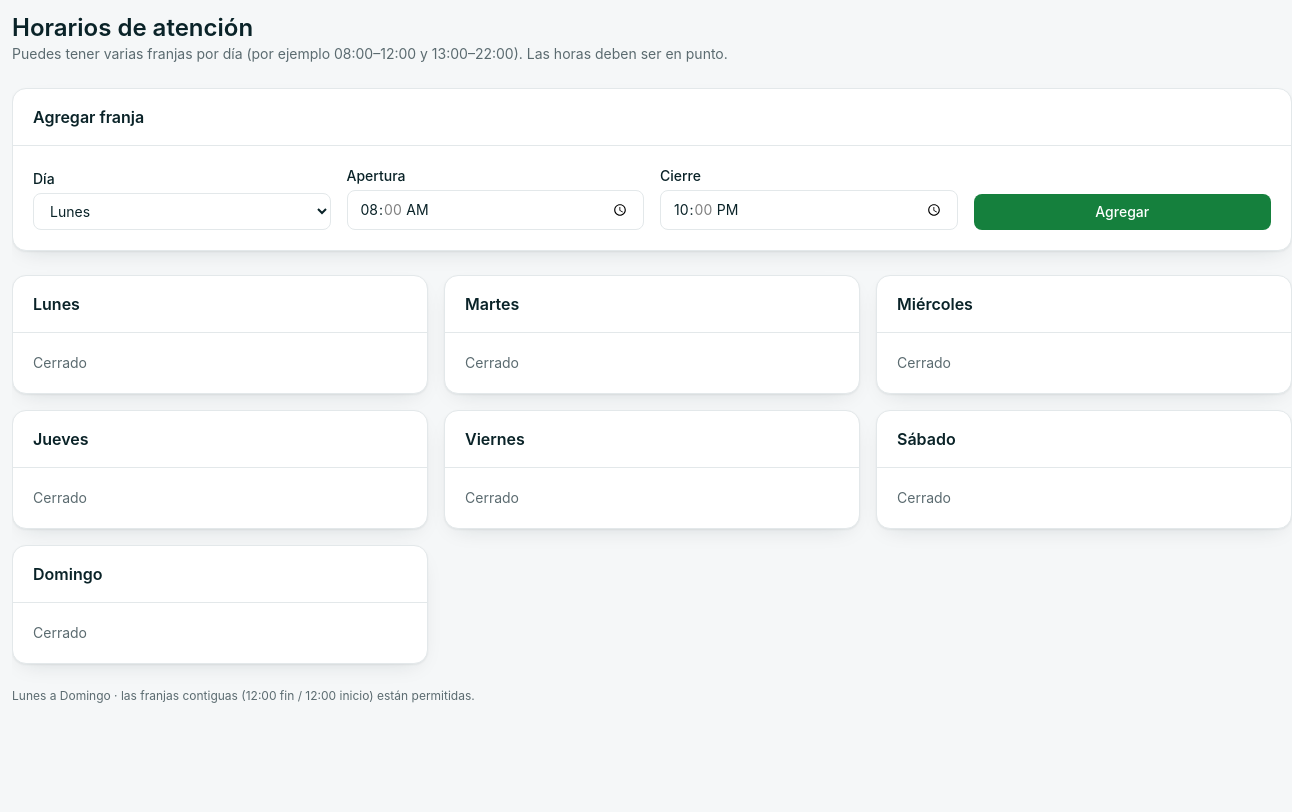
Test: HorariosPage › muestra el 409 horario_solapado al crear
Click the button "Agregar" at (1122, 212), box 974,194 -> 1271,230
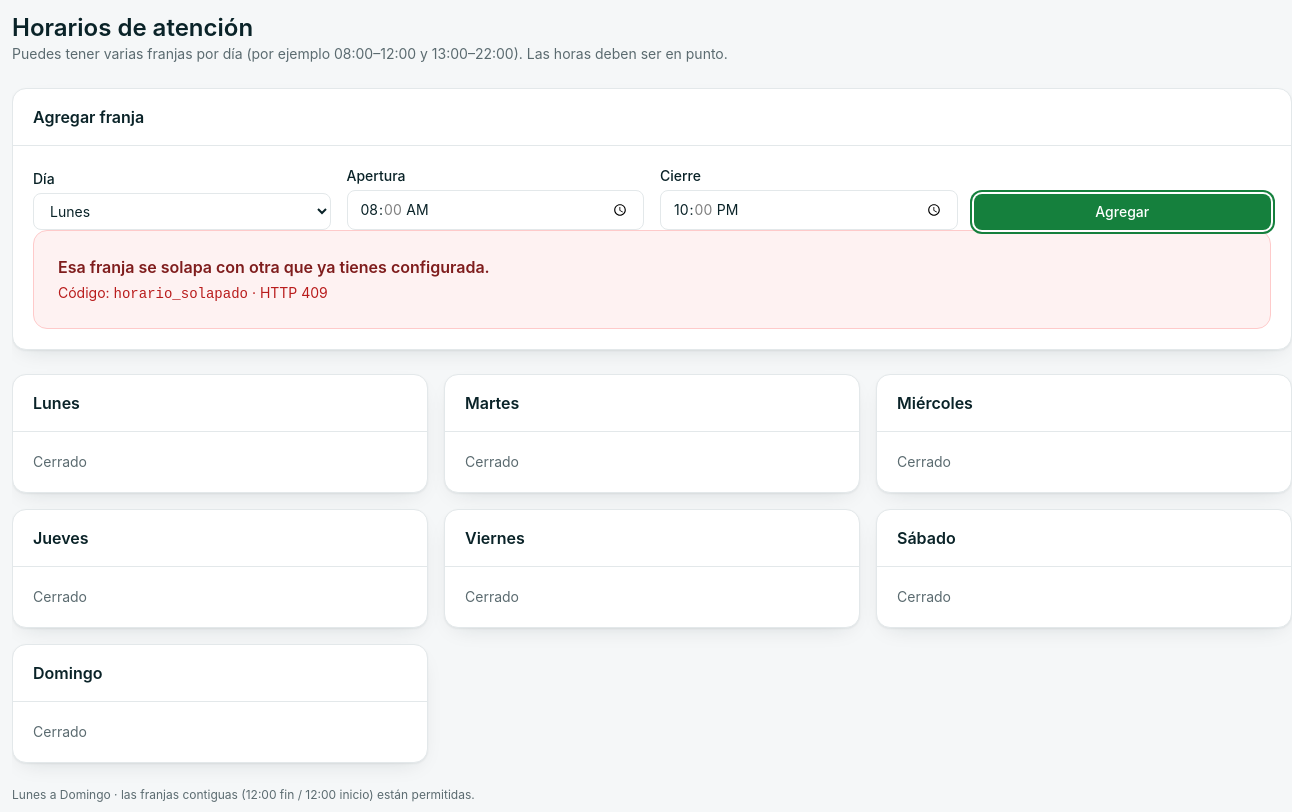
Result: the message with test id "error-api-409" shows "se solapa" at 58,257 -> 490,277
